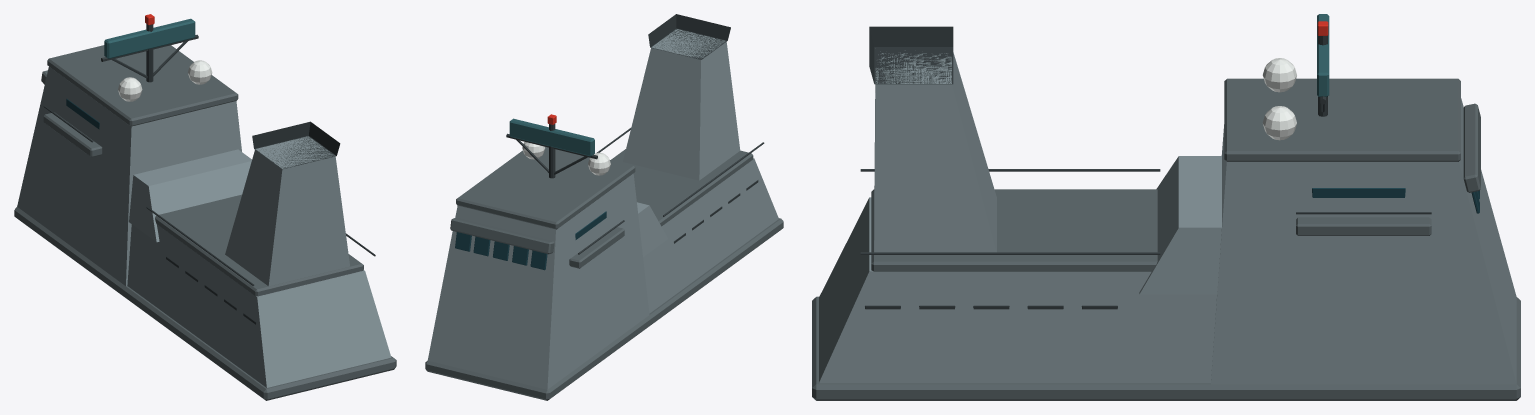
Rendered from MOD_Bridge.fbx.
3 renders of one model, left to right at view 1: azimuth 30°, elevation 25°; view 2: azimuth 150°, elevation 25°; view 3: azimuth 270°, elevation 25°, orthographic. The views are drawn at different scales.
Parts seen in each view (by area): view 1: EngineHouse, BridgeTower, Funnel, BridgeRoof, BridgeShoulder, BridgeFoundation, EngineHouseRoof, FunnelCap, BridgeRadarArray, BridgeWing, PortSatComDome, StarboardSatComDome; view 2: BridgeTower, Funnel, EngineHouse, BridgeRoof, BridgeFoundation, EngineHouseRoof, FunnelCap, BridgeRadarArray, BridgeBrow, BridgeShoulder, BridgeWing, PortSatComDome; view 3: BridgeTower, EngineHouse, Funnel, BridgeRoof, EngineHouseRoof, BridgeFoundation, BridgeShoulder, FunnelCap, BridgeWing.001, BridgeBrow, SideWindow.001, PortSatComDome (+3 smaller).
Part boxes in pixels (x1=…): EngineHouse: x1=127, y1=224, x2=391, y2=387; BridgeTower: x1=17, y1=67, x2=241, y2=286; Funnel: x1=225, y1=136, x2=349, y2=286; BridgeRoof: x1=47, y1=45, x2=238, y2=126; BridgeShoulder: x1=129, y1=149, x2=251, y2=242; BridgeFoundation: x1=14, y1=207, x2=396, y2=400; EngineHouseRoof: x1=155, y1=194, x2=363, y2=296; FunnelCap: x1=252, y1=121, x2=340, y2=169; BridgeRadarArray: x1=104, y1=18, x2=195, y2=58; BridgeWing: x1=43, y1=112, x2=102, y2=157; PortSatComDome: x1=118, y1=77, x2=142, y2=101; StarboardSatComDome: x1=188, y1=60, x2=212, y2=84; BridgeTower: x1=427, y1=173, x2=649, y2=389; Funnel: x1=623, y1=29, x2=740, y2=180; EngineHouse: x1=643, y1=158, x2=778, y2=313; BridgeRoof: x1=456, y1=146, x2=635, y2=229; BridgeFoundation: x1=425, y1=218, x2=783, y2=400; EngineHouseRoof: x1=611, y1=149, x2=753, y2=226; FunnelCap: x1=648, y1=14, x2=730, y2=59; BridgeRadarArray: x1=509, y1=118, x2=594, y2=156; BridgeBrow: x1=450, y1=217, x2=554, y2=254; BridgeShoulder: x1=637, y1=202, x2=668, y2=257; BridgeWing: x1=569, y1=226, x2=624, y2=268; PortSatComDome: x1=588, y1=152, x2=610, y2=175; BridgeTower: x1=1211, y1=98, x2=1516, y2=384; EngineHouse: x1=819, y1=197, x2=1216, y2=383; Funnel: x1=874, y1=50, x2=996, y2=252; BridgeRoof: x1=1224, y1=78, x2=1460, y2=161; EngineHouseRoof: x1=871, y1=189, x2=1157, y2=271; BridgeFoundation: x1=812, y1=296, x2=1520, y2=400; BridgeShoulder: x1=1139, y1=156, x2=1221, y2=294; FunnelCap: x1=869, y1=26, x2=953, y2=84; BridgeWing.001: x1=1296, y1=217, x2=1431, y2=235; BridgeBrow: x1=1463, y1=103, x2=1480, y2=192; SideWindow.001: x1=1312, y1=188, x2=1405, y2=197; PortSatComDome: x1=1262, y1=58, x2=1296, y2=92.
Size of the model in its own units: 180 by 299 by 575.
